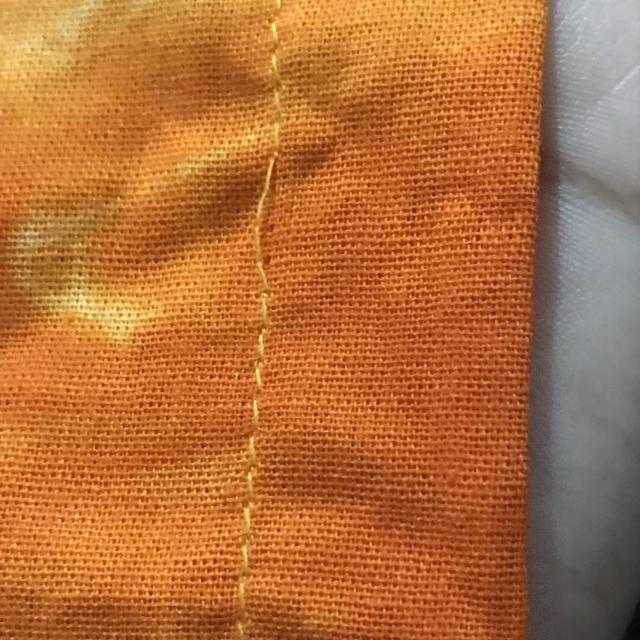skip: (226, 135, 314, 319)
